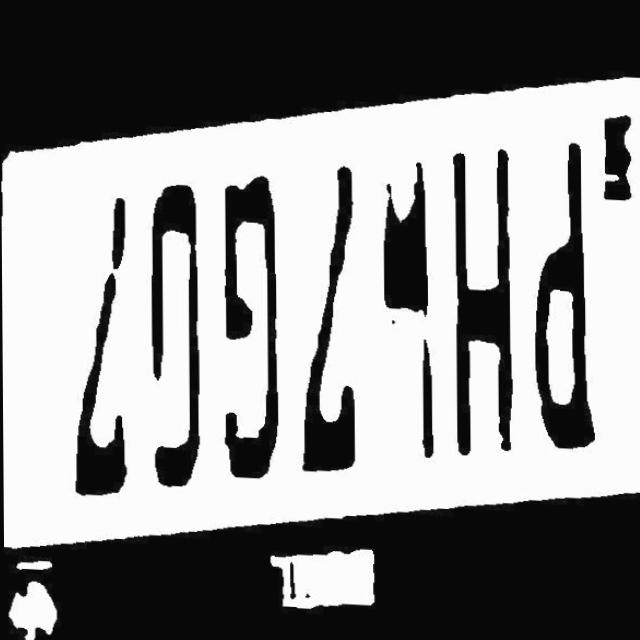0: (139, 179, 211, 487)
7: (293, 158, 364, 474), (64, 193, 135, 497)
g: (201, 166, 293, 484)
h: (436, 148, 521, 453)
p: (523, 130, 599, 447)
w: (368, 159, 437, 457)
